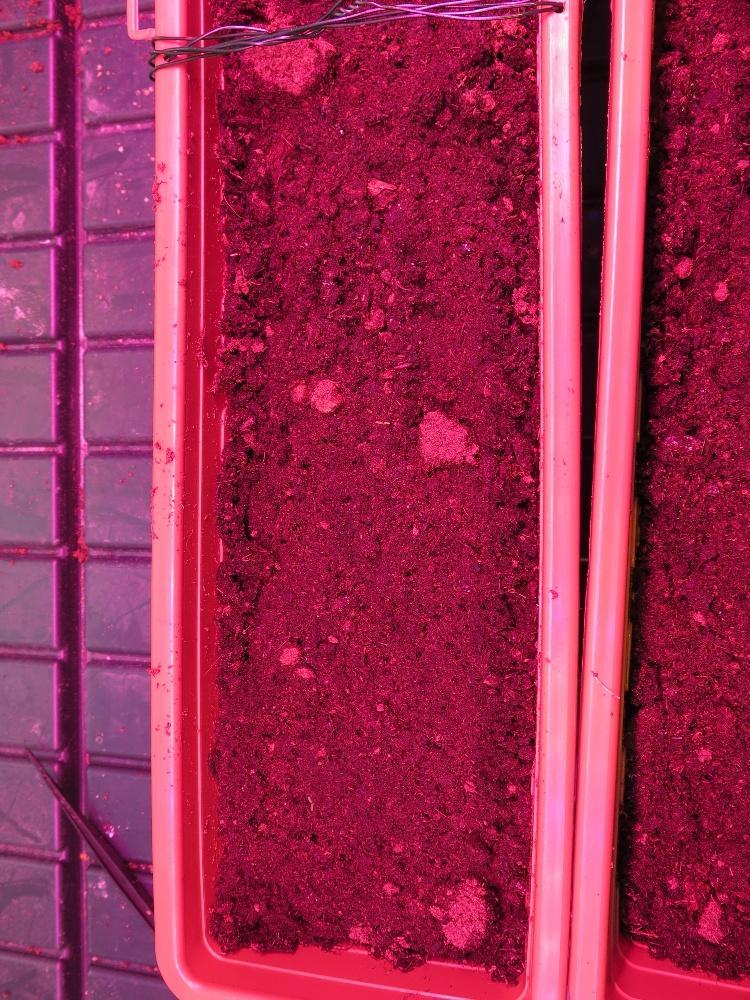weed: (306, 794, 312, 813)
